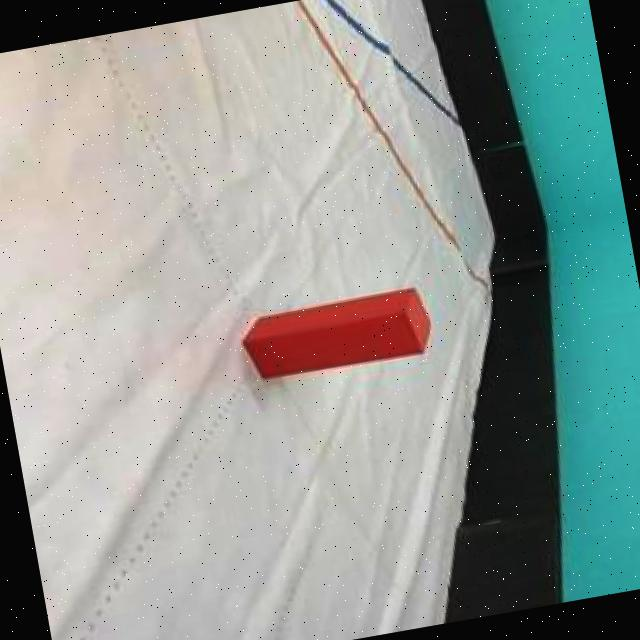redbox: (238, 285, 438, 384)
